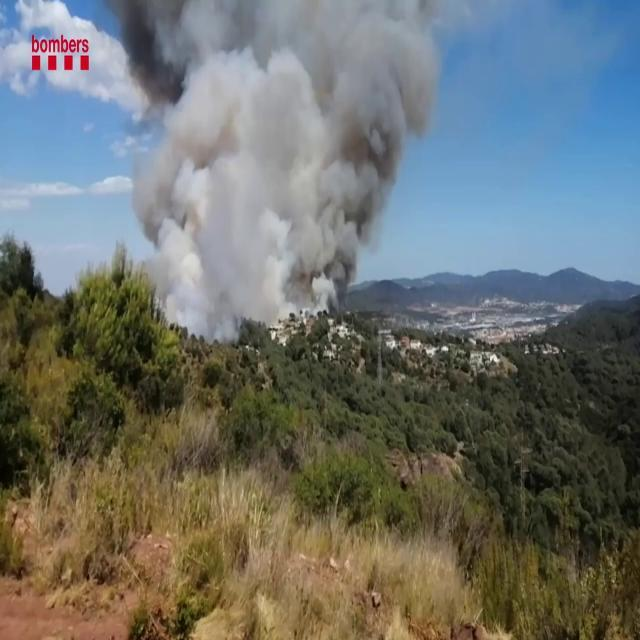Smoke: (111, 0, 449, 317)
